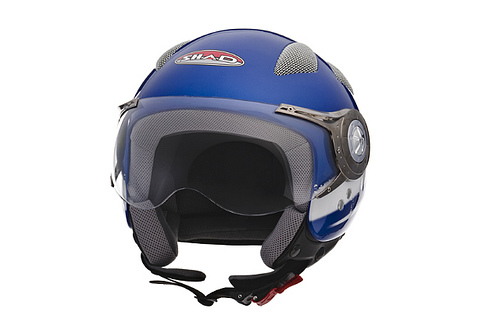helmet: (117, 32, 372, 265)
